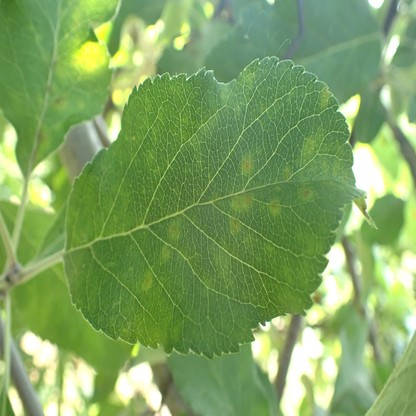scab: (31, 123, 49, 163), (230, 192, 254, 212), (302, 133, 316, 162), (166, 218, 184, 240), (240, 152, 253, 175), (230, 216, 243, 237), (319, 90, 332, 107), (53, 95, 68, 109), (298, 185, 313, 199), (268, 200, 281, 214), (161, 247, 171, 264), (143, 270, 152, 288), (43, 80, 55, 93), (284, 166, 294, 178)
